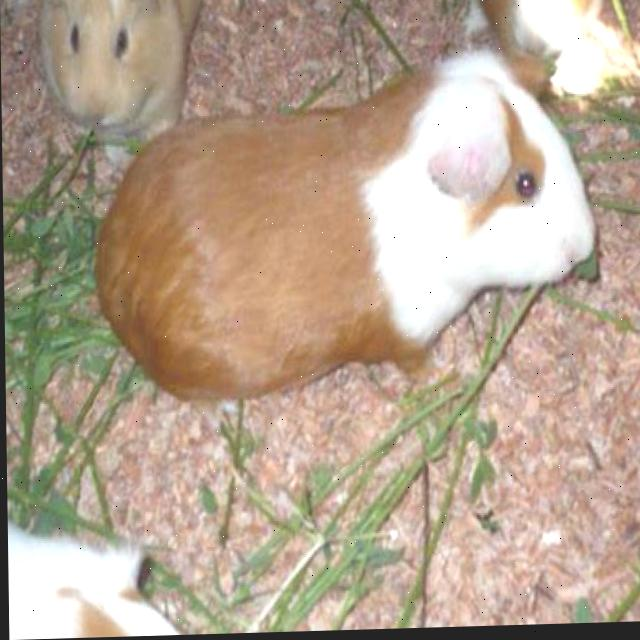guinea pig: (74, 32, 599, 419)
